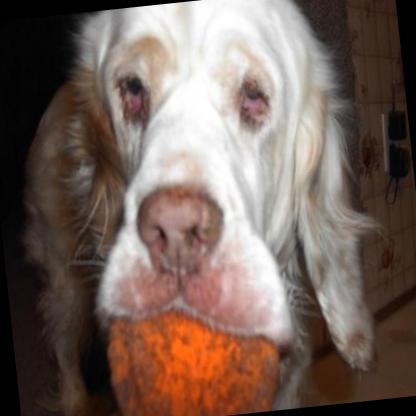clumber: (0, 0, 401, 416)
